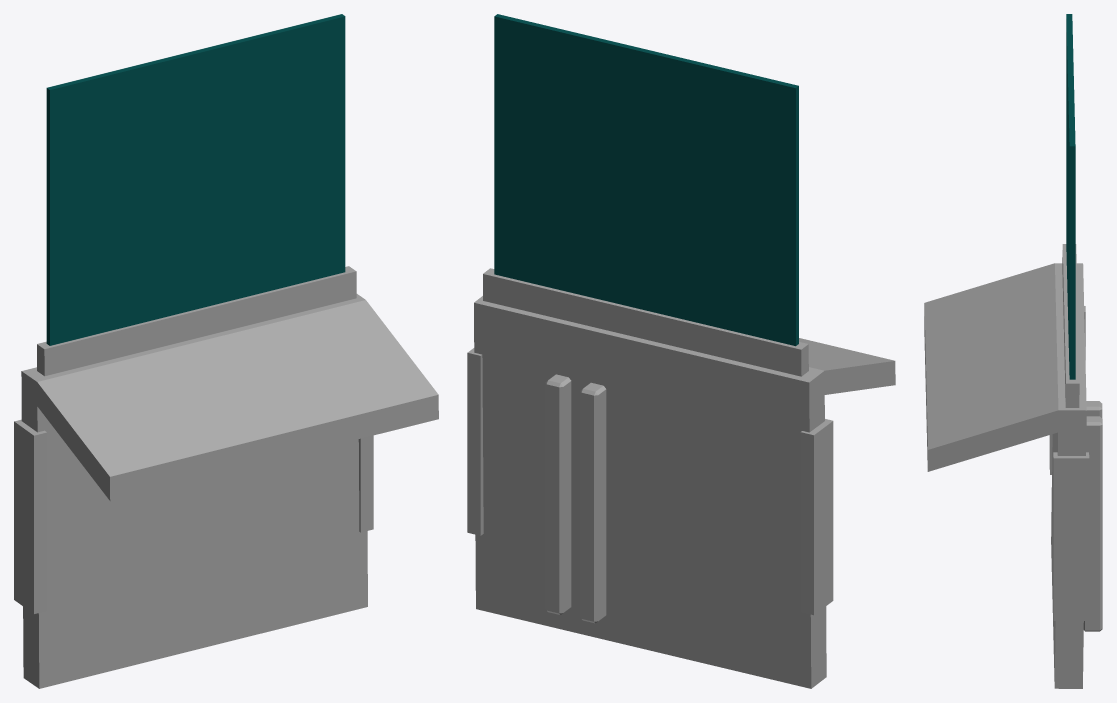
Rendered from side_terminal.fbx.
The picture shows the model from 3 angles, left to right: view 1: azimuth 30°, elevation 25°; view 2: azimuth 150°, elevation 25°; view 3: azimuth 270°, elevation 25°; orthographic projection. The views are drawn at different scales.
Parts seen in each view (by area): view 1: side_terminal; view 2: side_terminal; view 3: side_terminal.
Boxes of the visible parts, x1,y1,x2,y2 form: side_terminal: (14,14,438,688); side_terminal: (467,14,895,688); side_terminal: (924,14,1102,688).
Bounding box in the file's own units: 1.01 × 1.66 × 0.4995.
